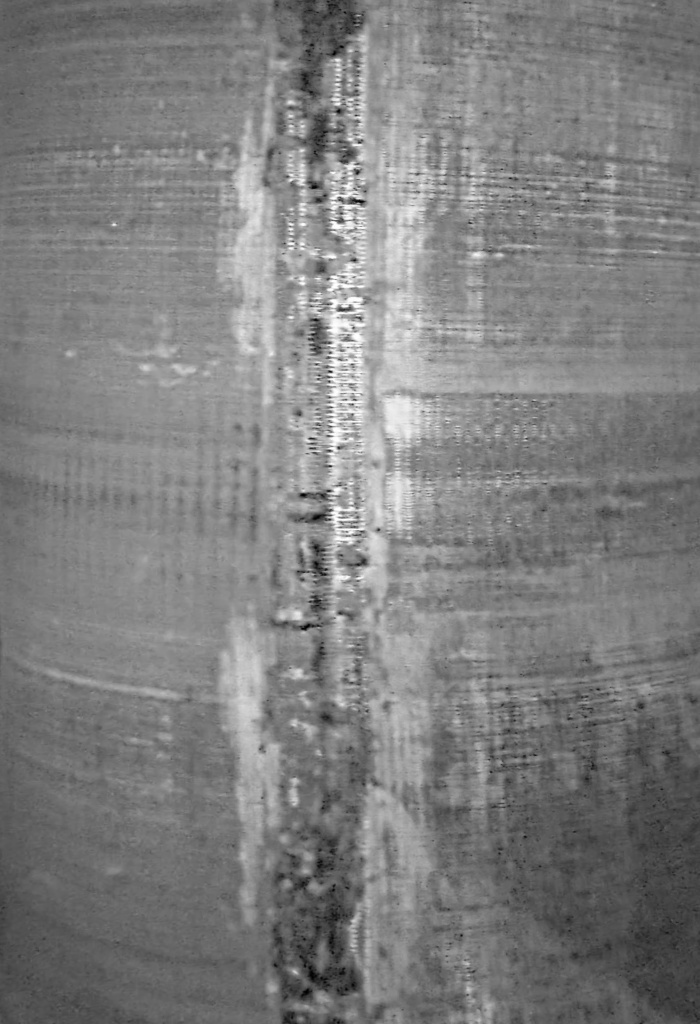splice: (249, 5, 394, 1024)
